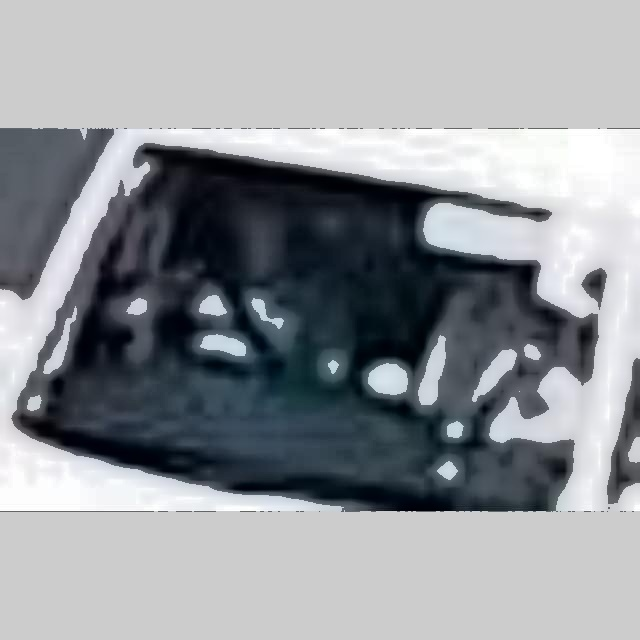pakai: (142, 200, 347, 378)
